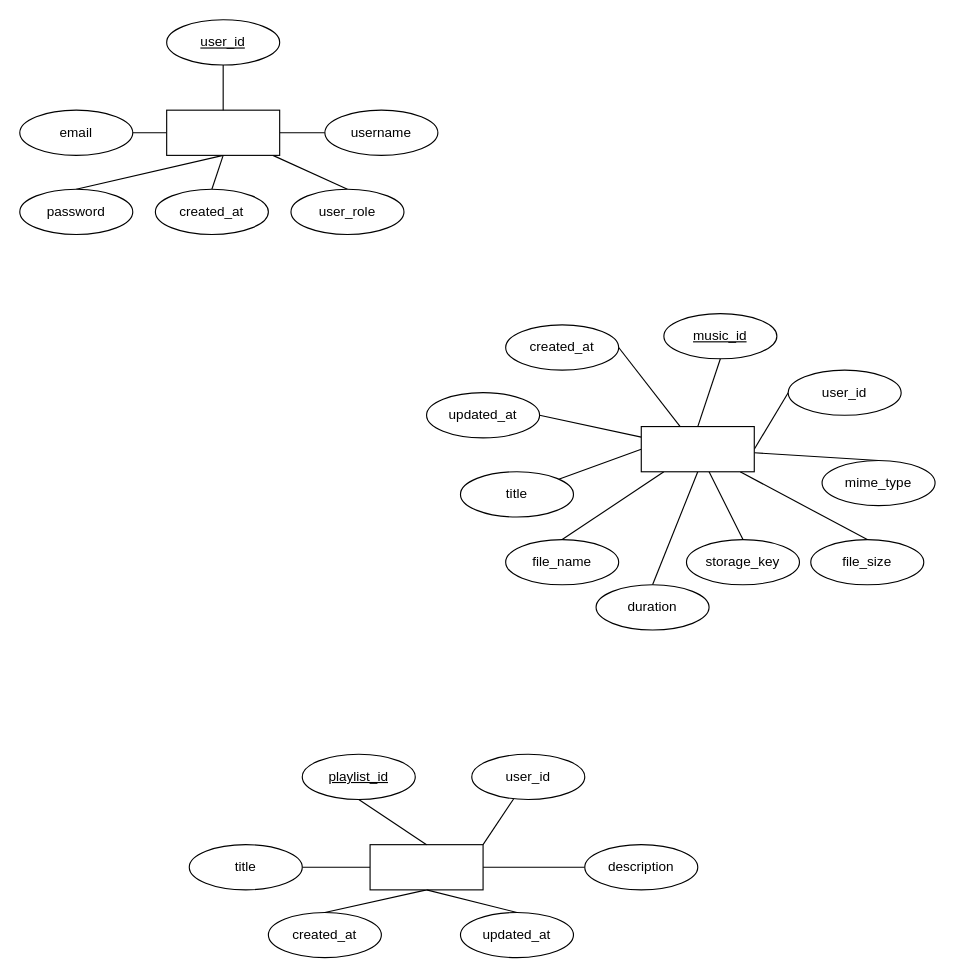
This 955x977 diagram has some shape labels left out. The centre of each missing label's shape, as x and y in pixels:
Music: (697,448)
Playlist: (426,867)
User: (223,132)
